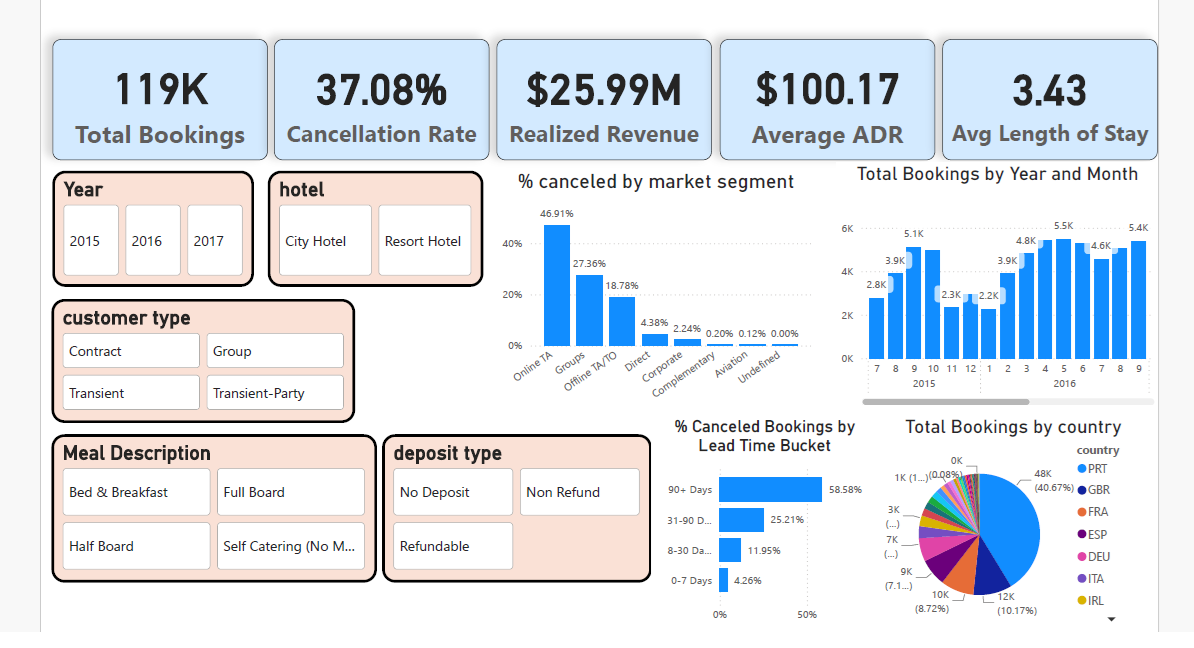

Layout of this report page (visuals, bound fields, positions):
{"tool":"powerbi","page":{"name":"Page 1","canvas":[1280,720],"ordinal":0},"visuals":[{"type":"card","fields":{"Values":["hotel_bookings.Total Bookings"]},"box":[13.4,42,246.9,139.4],"z":0},{"type":"card","fields":{"Values":["hotel_bookings.Cancellation Rate"]},"box":[267.1,42,246.9,139.4],"z":1000},{"type":"card","fields":{"Values":["hotel_bookings.Realized Revenue"]},"box":[522.4,42,246.9,139.4],"z":2000},{"type":"card","fields":{"Values":["hotel_bookings.Average ADR"]},"box":[777.7,42,246.9,139.4],"z":3000},{"type":"card","fields":{"Values":["hotel_bookings.Avg Length of Stay"]},"box":[1033.1,42,246.9,139.4],"z":4000},{"type":"advancedSlicerVisual","fields":{"Values":["Calendar.Year"]},"box":[13.2,193.2,231.2,133.2],"z":5000},{"type":"advancedSlicerVisual","title":"customer type","fields":{"Values":["hotel_bookings.customer_type"]},"box":[11.7,339.5,348.3,142],"z":6000},{"type":"advancedSlicerVisual","title":"deposit type","fields":{"Values":["hotel_bookings.deposit_type"]},"box":[390.7,494.6,308.8,169.8],"z":7000},{"type":"advancedSlicerVisual","fields":{"Values":["hotel_bookings.hotel"]},"box":[260.5,193.2,247.3,133.2],"z":8000},{"type":"advancedSlicerVisual","fields":{"Values":["Meal lookup.Meal Description"]},"box":[11.7,494.6,373.2,169.8],"z":9000},{"type":"lineClusteredColumnComboChart","title":"Total Bookings by Year and Month","fields":{"Y":["hotel_bookings.Total Bookings"],"Category":["Calendar.Year","Calendar.Month Number"]},"box":[911.7,184.4,368.8,282.4],"z":10000},{"type":"columnChart","title":"% canceled by market segment","fields":{"Category":["hotel_bookings.market_segment"],"Y":["Sum(hotel_bookings.is_canceled)"]},"box":[522.4,191.7,365.9,282.4],"z":11000},{"type":"barChart","title":"% Canceled Bookings by Lead Time Bucket","fields":{"Category":["hotel_bookings.Lead Time Bucket"],"Y":["Divide(hotel_bookings.Canceled Bookings, ScopedEval(hotel_bookings.Canceled Bookings, []))"]},"box":[699.5,474.1,259,245.9],"z":12000},{"type":"pieChart","fields":{"Category":["hotel_bookings.country"],"Y":["hotel_bookings.Total Bookings"]},"box":[959,474,311,246],"z":13000}]}

Visuals, with their boxes in screenshot pixels (x1, y1, x2, y2):
card - hotel_bookings.Total Bookings: region(52, 45, 263, 164)
card - hotel_bookings.Cancellation Rate: region(269, 45, 480, 164)
card - hotel_bookings.Realized Revenue: region(487, 45, 698, 164)
card - hotel_bookings.Average ADR: region(705, 45, 916, 164)
card - hotel_bookings.Avg Length of Stay: region(923, 45, 1134, 164)
advancedSlicerVisual - Calendar.Year: region(52, 174, 249, 288)
"customer type" advancedSlicerVisual: region(50, 299, 348, 421)
"deposit type" advancedSlicerVisual: region(374, 432, 638, 577)
advancedSlicerVisual - hotel_bookings.hotel: region(263, 174, 474, 288)
advancedSlicerVisual - Meal lookup.Meal Description: region(50, 432, 369, 577)
"Total Bookings by Year and Month" lineClusteredColumnComboChart: region(819, 167, 1135, 408)
"% canceled by market segment" columnChart: region(487, 173, 799, 414)
"% Canceled Bookings by Lead Time Bucket" barChart: region(638, 414, 859, 625)
pieChart - hotel_bookings.country x hotel_bookings.Total Bookings: region(860, 414, 1126, 625)
